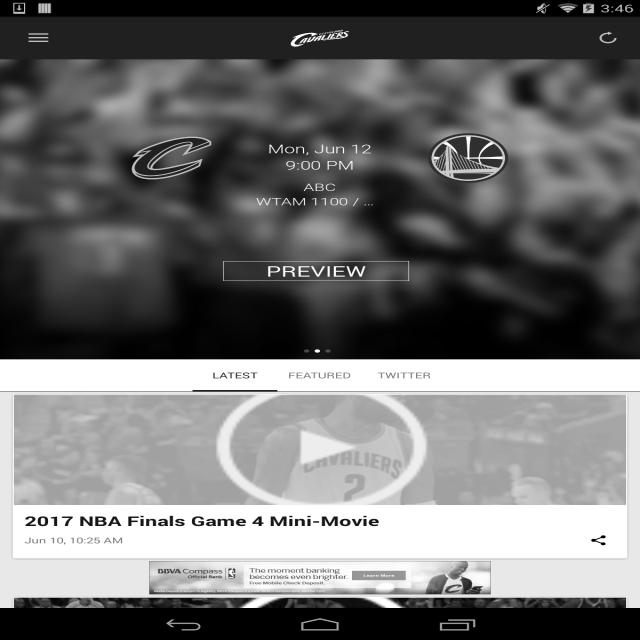ImageButton: (9, 17, 68, 59)
ImageView: (0, 59, 640, 360), (14, 395, 626, 505), (13, 597, 626, 640), (149, 561, 491, 594), (118, 125, 225, 191), (415, 125, 522, 191), (235, 23, 405, 53), (591, 27, 625, 49), (582, 530, 616, 551)
TextView: (24, 512, 616, 530), (224, 261, 409, 281), (251, 194, 389, 208), (268, 140, 372, 157), (25, 534, 123, 546), (285, 157, 355, 173), (288, 370, 351, 380), (298, 180, 341, 194), (378, 370, 432, 380), (212, 370, 258, 380)
